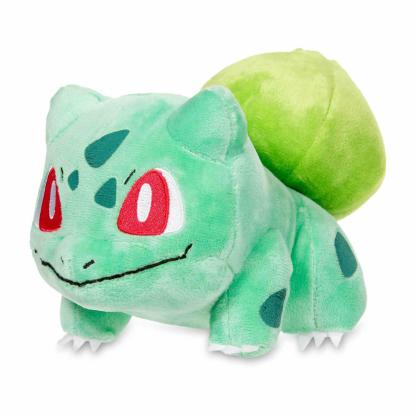Bulbasaur: (2, 1, 416, 416)
